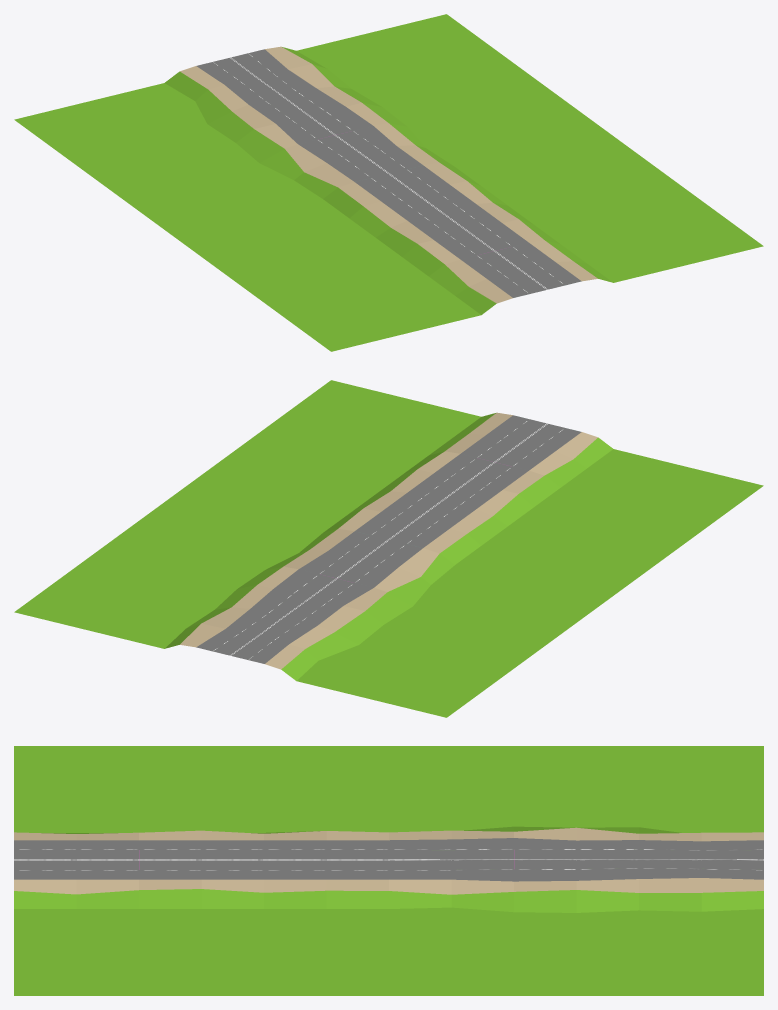
Rendered from BackgroundBlock0.FBX.
The picture shows the model from 3 angles, top to bottom: view 1: azimuth 30°, elevation 25°; view 2: azimuth 150°, elevation 25°; view 3: azimuth 270°, elevation 25°; orthographic projection. The views are drawn at different scales.
Visible parts, largest first — view 1: BSteppe1, BSteppe0; view 2: BSteppe0, BSteppe1; view 3: BSteppe0, BSteppe1.
Boxes of the visible parts, x1,y1,x2,y2 form: BSteppe1: (14,14,604,235); BSteppe0: (173,130,763,351); BSteppe0: (173,380,763,601); BSteppe1: (14,496,604,717); BSteppe0: (14,746,388,995); BSteppe1: (389,746,763,995).
Bounding box in the file's own units: 2.4 × 3.05 × 0.0502.
